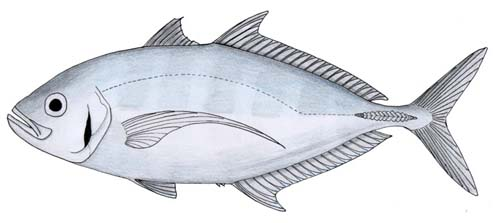fish: (7, 11, 488, 212)
